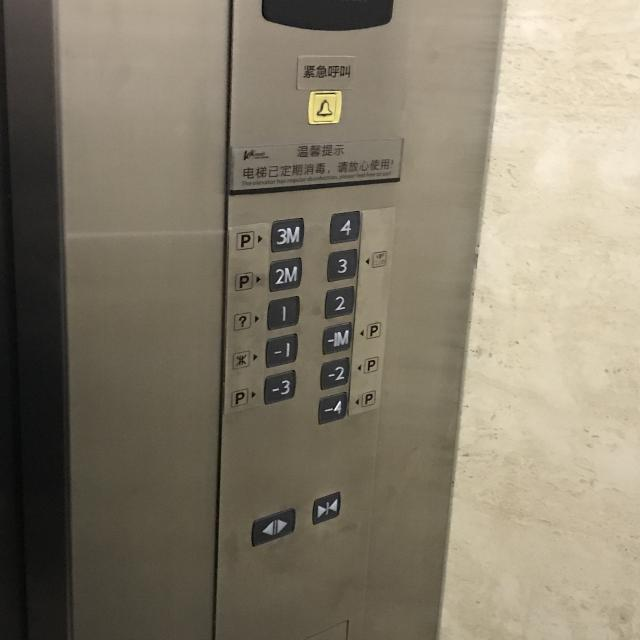-1: (264, 332, 299, 368)
-1M: (321, 320, 354, 356)
-2: (319, 356, 351, 391)
-3: (262, 369, 297, 405)
-4: (316, 391, 349, 425)
1: (265, 294, 301, 332)
2: (322, 284, 356, 318)
2M: (267, 255, 303, 292)
3: (324, 248, 358, 282)
3M: (268, 216, 306, 253)
4: (328, 210, 362, 244)
alarm: (306, 89, 342, 125)
close: (310, 490, 342, 526)
open: (249, 506, 297, 548)
